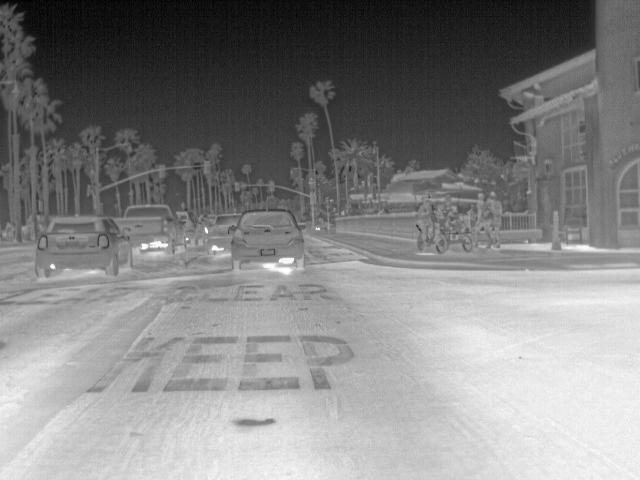car: (33, 214, 131, 281), (228, 207, 305, 269), (112, 203, 179, 254), (206, 213, 242, 254), (175, 212, 198, 232)
person: (481, 192, 503, 251), (416, 198, 434, 242), (473, 192, 489, 230), (444, 204, 464, 230)
